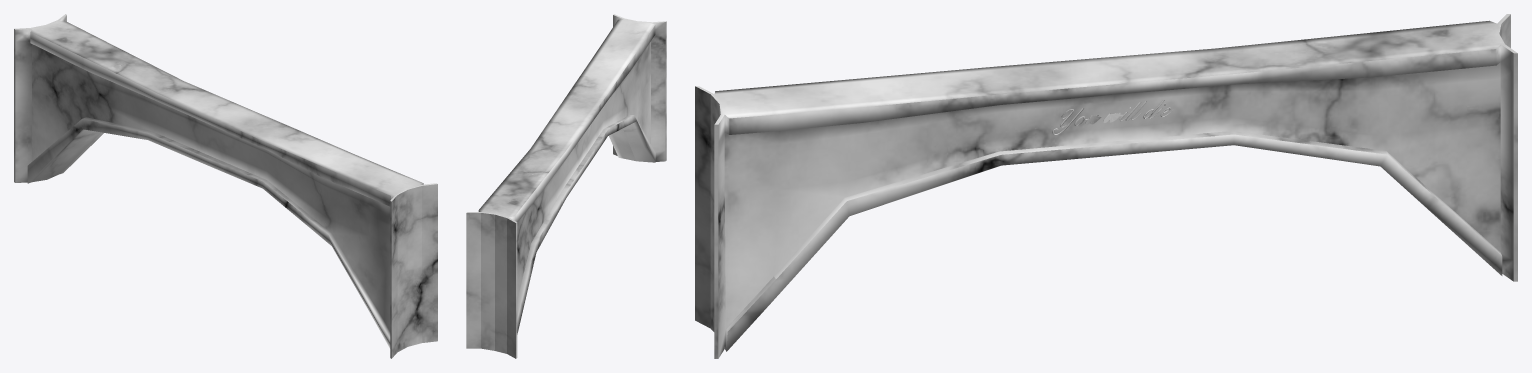
The model's file is Door_Way_Trim_ToPaint.fbx.
3 renders of one model, left to right at view 1: azimuth 30°, elevation 25°; view 2: azimuth 150°, elevation 25°; view 3: azimuth 270°, elevation 25°, orthographic. The views are drawn at different scales.
Parts seen in each view (by area): view 1: typeMesh2; view 2: typeMesh2; view 3: typeMesh2.
Part boxes in pixels (bbox=[...]): typeMesh2: bbox=[14, 14, 437, 358]; typeMesh2: bbox=[466, 14, 666, 358]; typeMesh2: bbox=[695, 14, 1517, 358].
Bounding box in the file's own units: 0.0322 × 0.0309 × 0.0984.
Materials: 1 (1 with a texture image).
